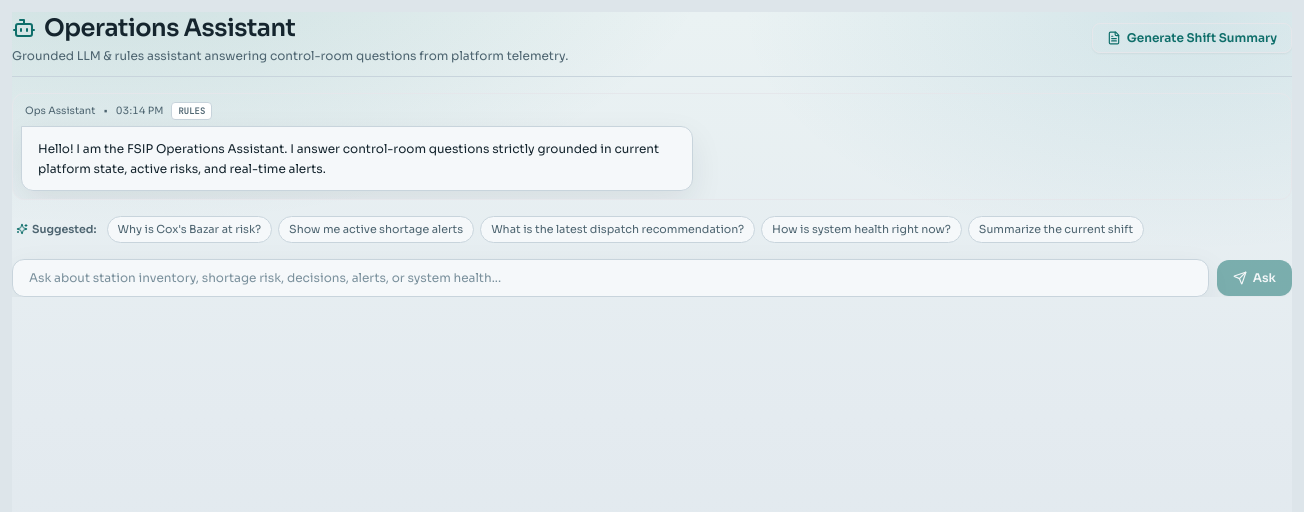
Phase 09 Ops Assistant Page › submits question and renders answer, engine badge, and source chips
Replace the text in the field with placeholder "Ask about station inventory" with "Why is Cox's Bazar at risk?" at (610, 278), box [12,258,1209,296]
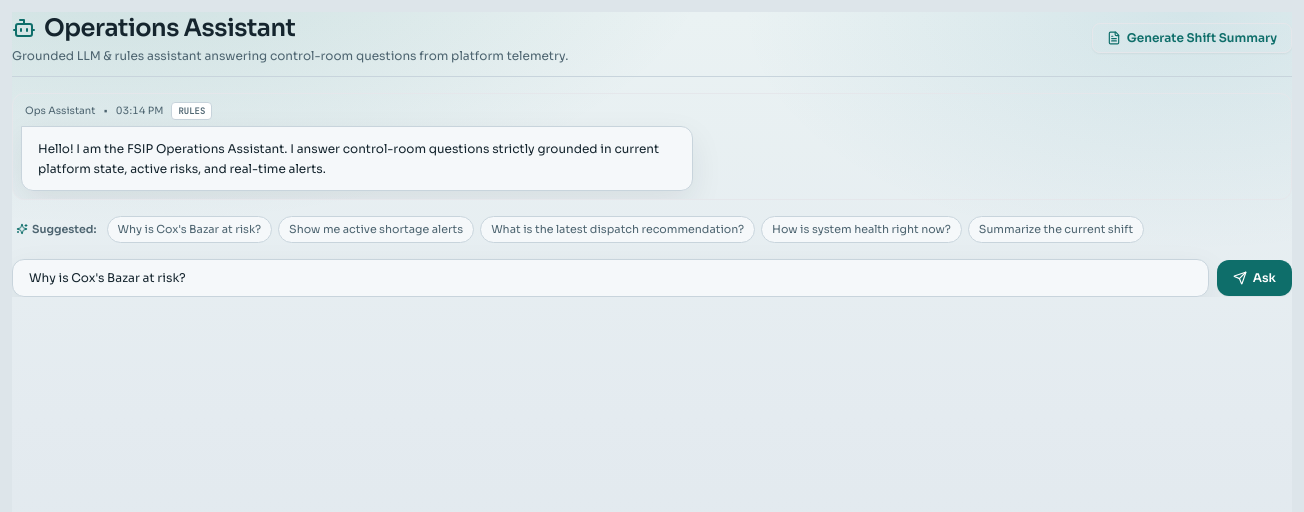
Click the button "Ask" at (1254, 278), box [1217,260,1292,296]
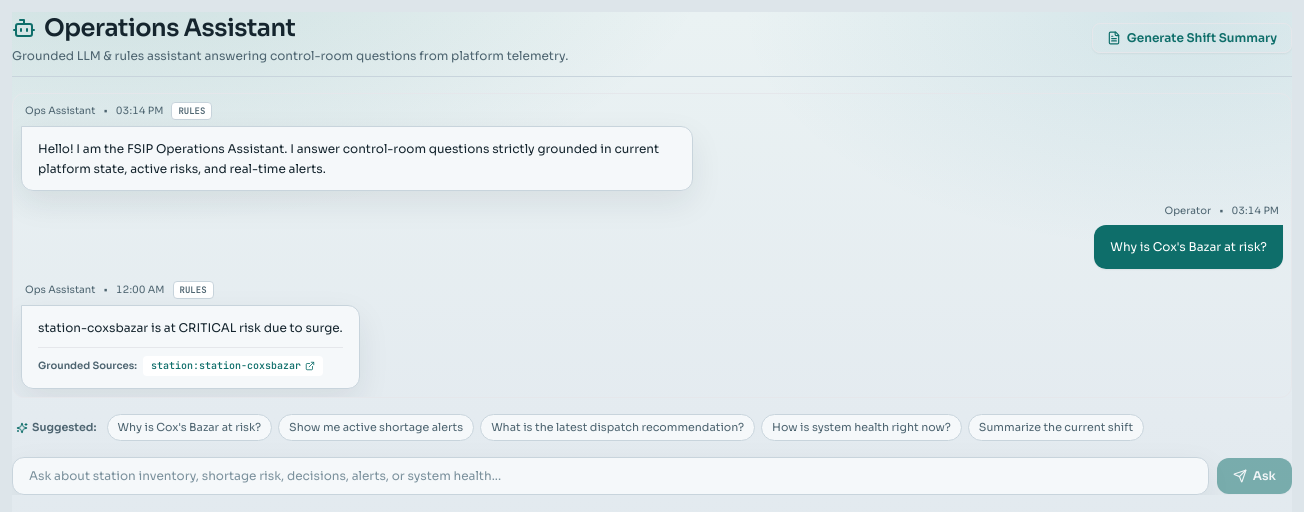
Check: the text "station-coxsbazar is at CRITICAL risk due to surge." is shown, box [38,318,343,337]
Check: the text "station:station-coxsbazar" is shown, box [151,358,301,374]
